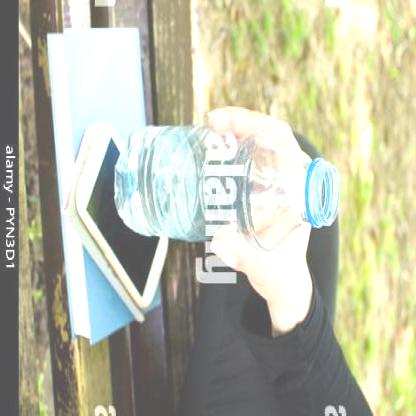bottle: (108, 119, 344, 248)
